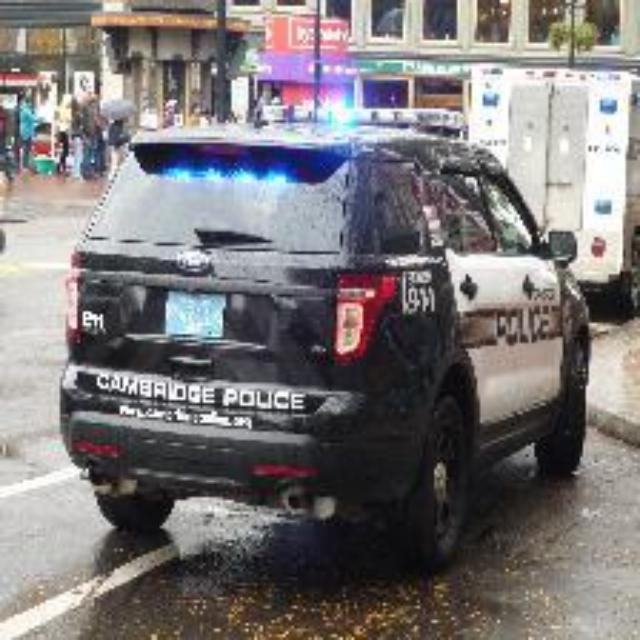emergency: (80, 137, 592, 525)
